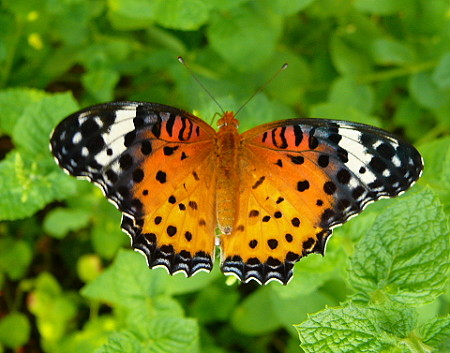Argyreus hyperbius: (46, 49, 426, 283)
butterfly: (48, 51, 428, 285)
